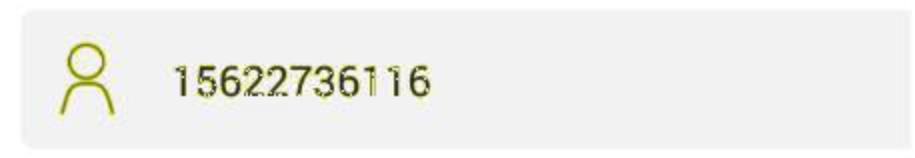EditText: (1, 1, 914, 157)
